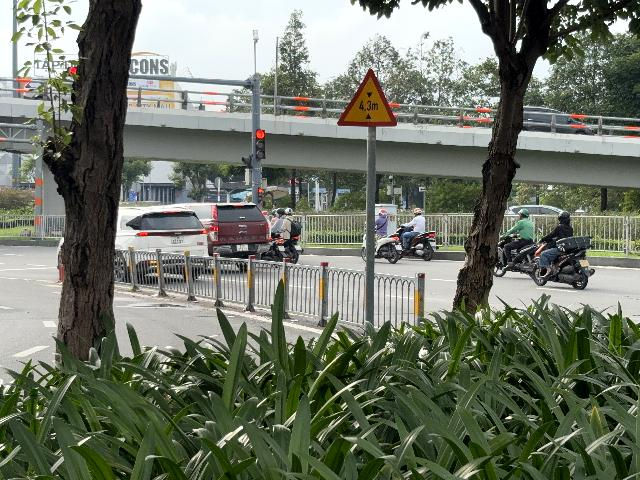chieu-cao-tinh-khong-thuc-te: (337, 69, 397, 126)
